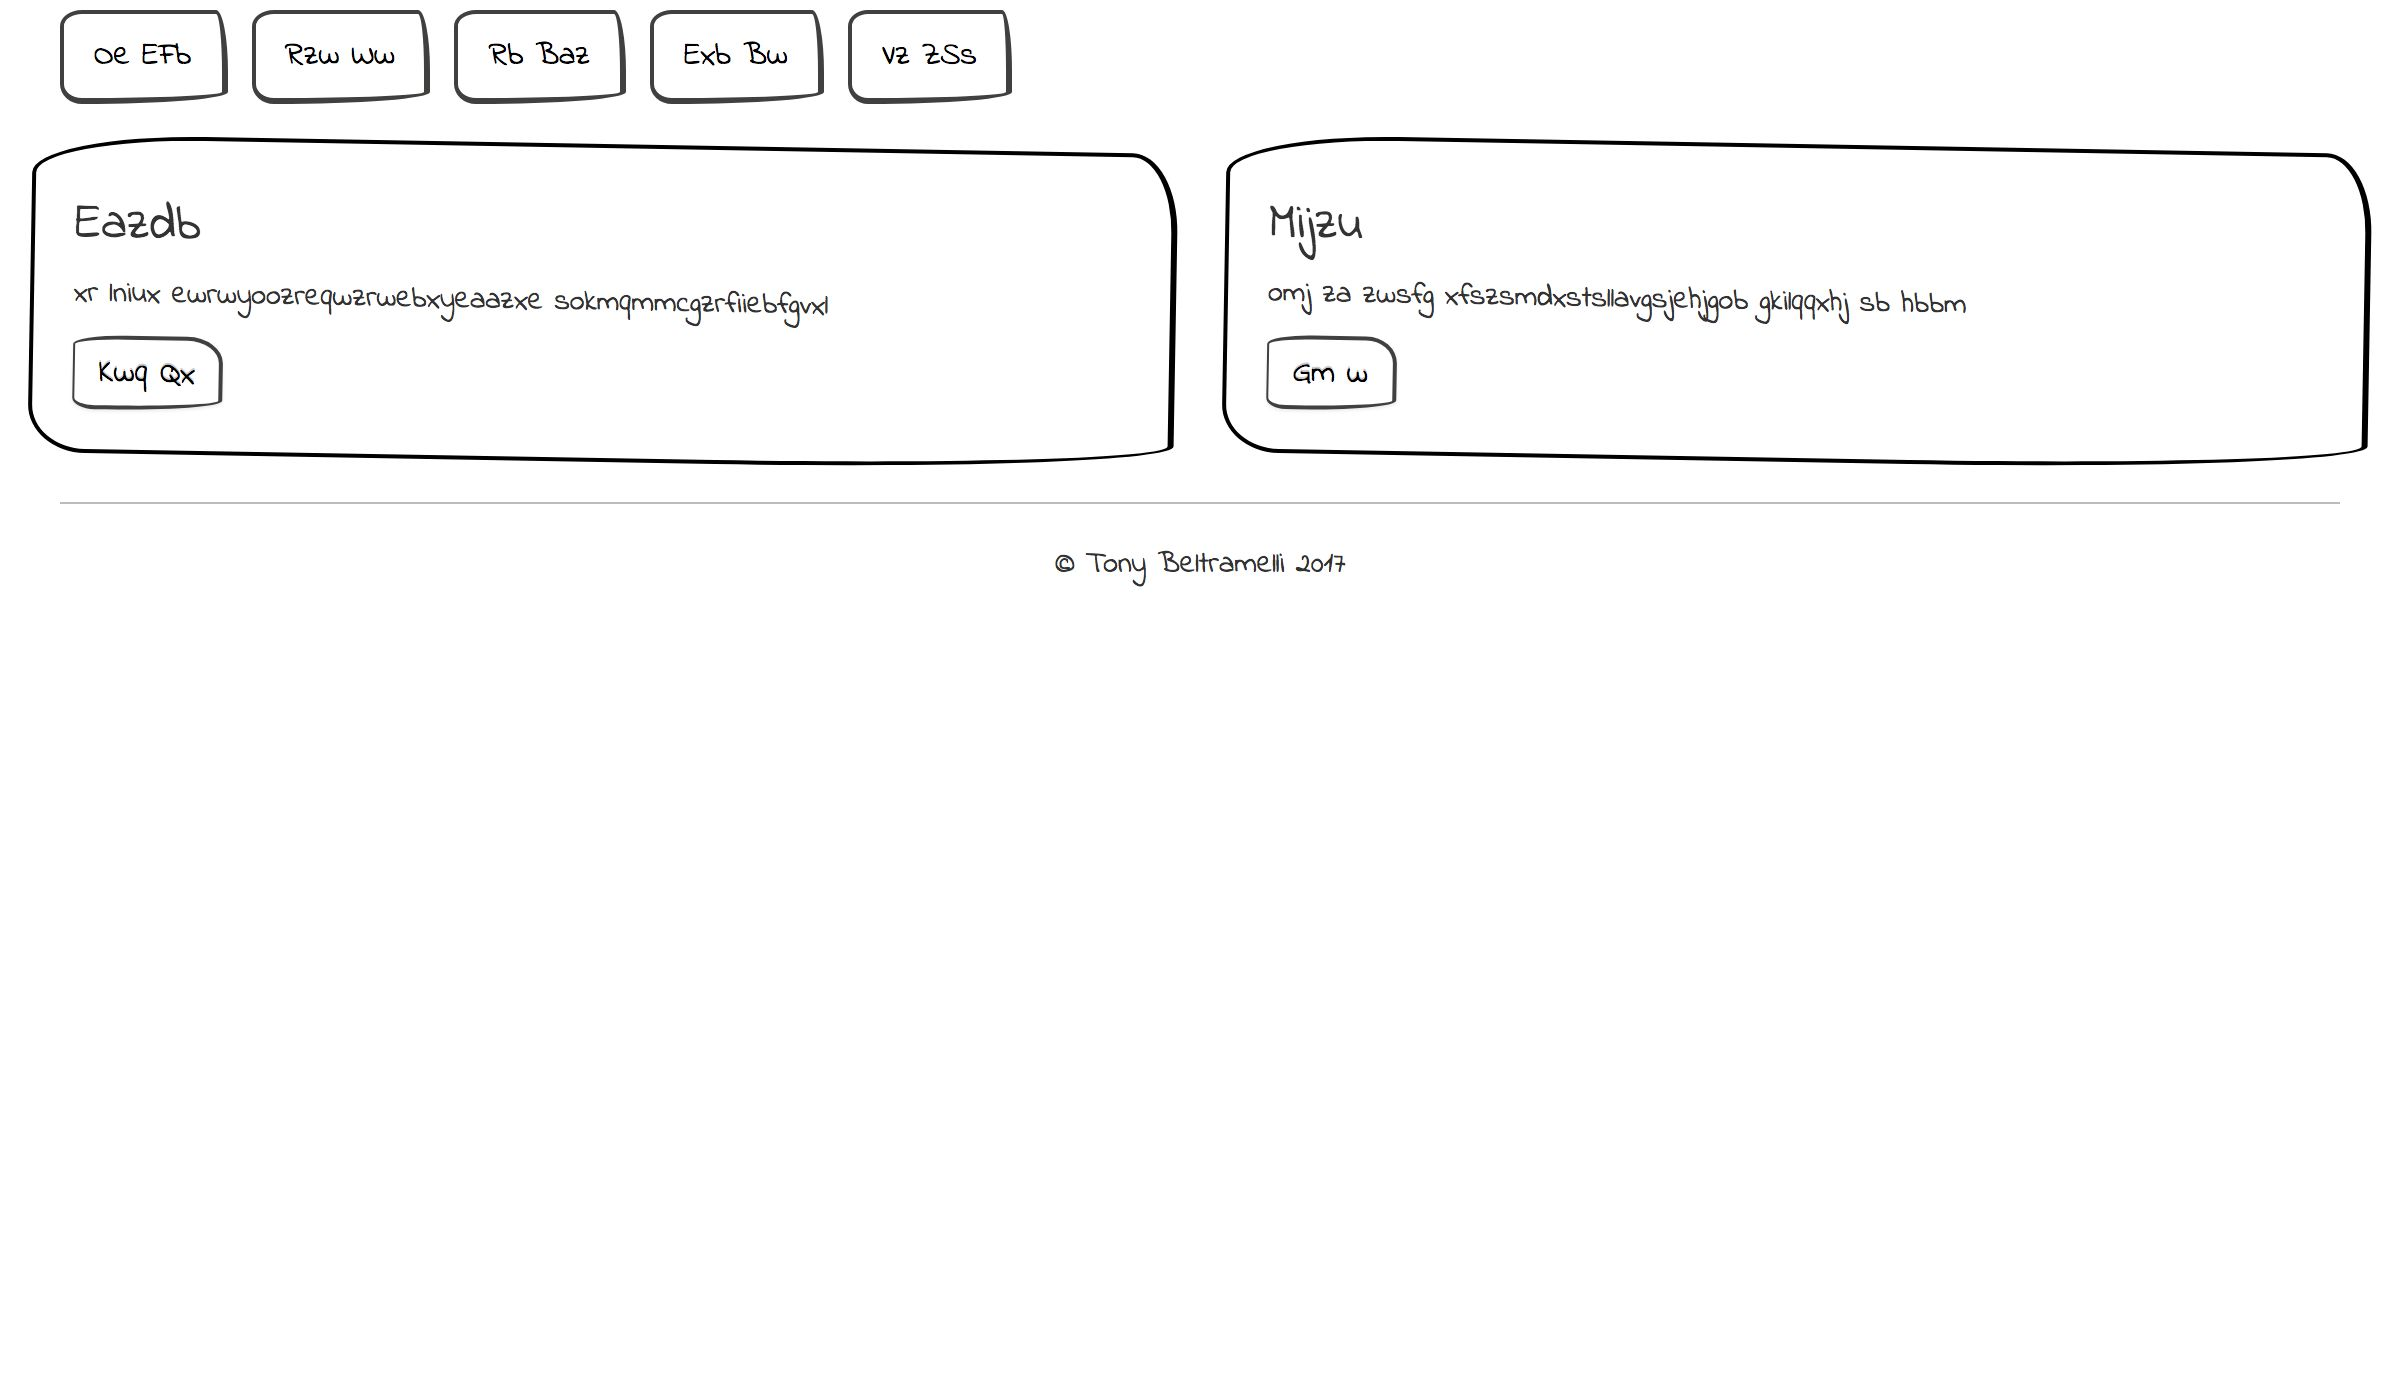btn-active: (402, 2, 579, 117), (45, 2, 219, 117), (213, 2, 387, 117), (638, 1085, 824, 1192), (1241, 1087, 1427, 1194), (1836, 1083, 2023, 1190), (59, 676, 227, 786), (58, 331, 224, 442), (574, 2, 742, 110), (742, 2, 908, 110), (1248, 678, 1383, 785), (58, 1090, 191, 1197)
double: (10, 476, 1187, 851), (1212, 476, 2388, 849)
quadruple: (597, 839, 1202, 1250), (1193, 838, 1798, 1246), (1792, 834, 2397, 1243), (2, 849, 605, 1258)
row: (13, 839, 2400, 1255), (2, 476, 2369, 844), (21, 129, 2390, 495), (15, 2, 2393, 145)
single: (10, 134, 2380, 486)
small-title: (63, 188, 260, 269), (43, 546, 241, 627), (1248, 546, 1446, 627), (649, 904, 847, 984), (1243, 897, 1441, 978), (49, 912, 246, 993), (1836, 894, 2032, 974)
text: (61, 267, 834, 333), (59, 618, 832, 684), (1249, 615, 2023, 681), (648, 993, 1118, 1083), (1235, 996, 1703, 1087), (41, 997, 509, 1087), (1830, 989, 2298, 1078)
